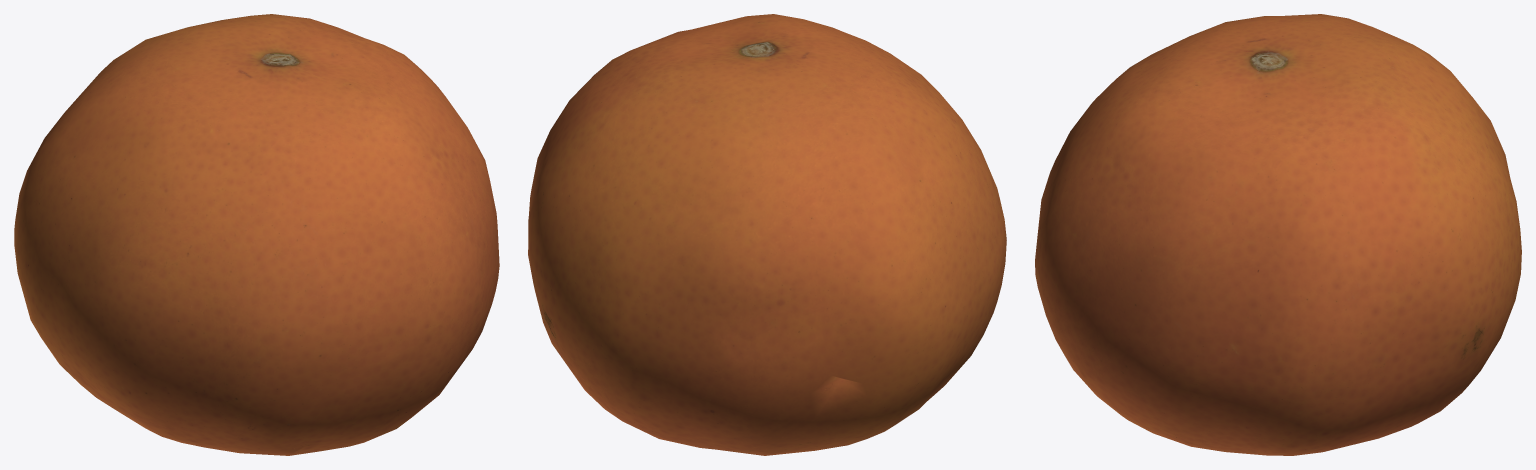
File: vffmejaiw_tier_2.gltf
The picture shows the model from 3 angles, left to right: view 1: azimuth 30°, elevation 25°; view 2: azimuth 150°, elevation 25°; view 3: azimuth 270°, elevation 25°; orthographic projection.
Parts seen in each view (by area): view 1: vffmejaiw_LOD0_TIER2_000; view 2: vffmejaiw_LOD0_TIER2_000; view 3: vffmejaiw_LOD0_TIER2_000.
Boxes of the visible parts, <box> form: vffmejaiw_LOD0_TIER2_000: <box>14,14,499,455</box>; vffmejaiw_LOD0_TIER2_000: <box>528,14,1006,455</box>; vffmejaiw_LOD0_TIER2_000: <box>1035,14,1521,455</box>.
Size of the model in its own units: 0.0488 by 0.04 by 0.0484.
1 material, 1 textured.
